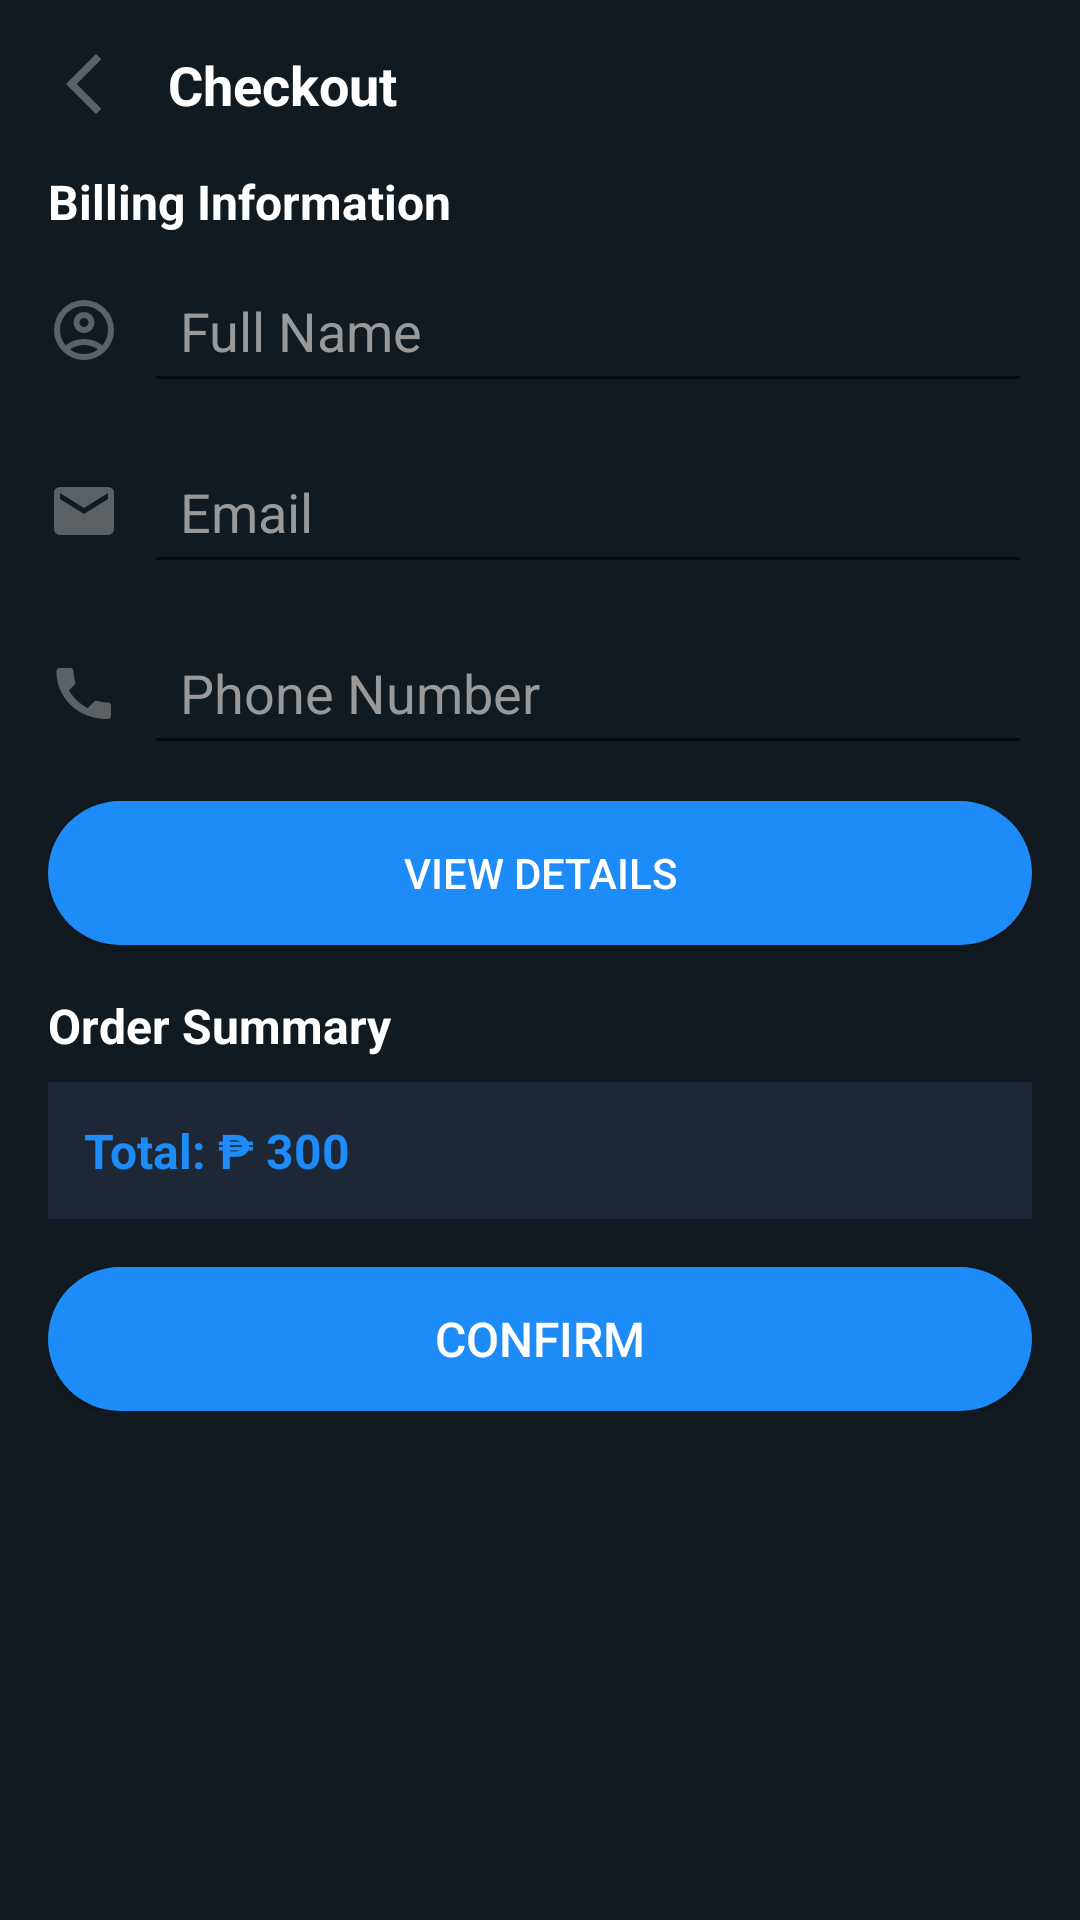

Point at icon controls on the screen. Image size 1080×1920, points as [x,y].
Back: [83,84]
Person Icon: [84,330]
